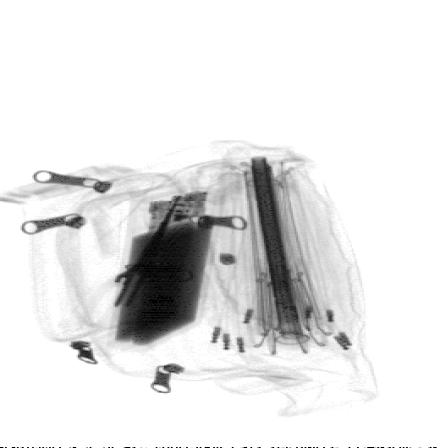Powerbank: (105, 181, 231, 351)
Scissors: (77, 194, 183, 330)
